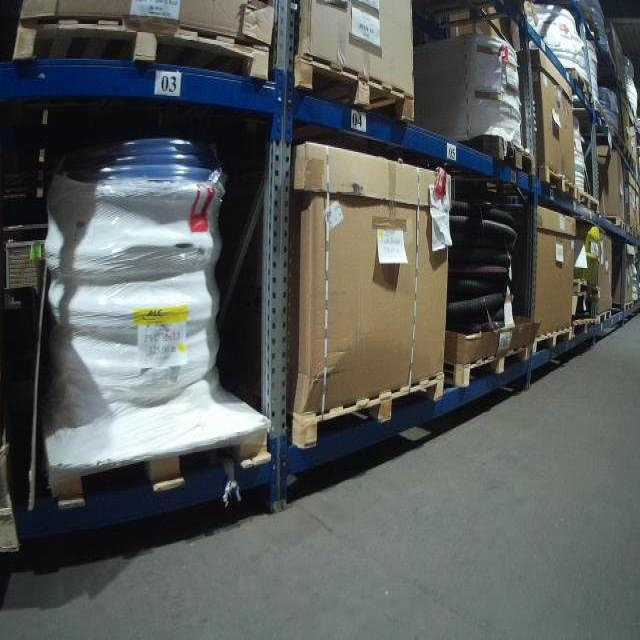pallet: (31, 421, 273, 509), (8, 17, 273, 86), (292, 371, 445, 450), (292, 51, 417, 126), (444, 341, 529, 388), (472, 137, 537, 178), (539, 164, 578, 201), (530, 326, 572, 357), (566, 69, 593, 103), (576, 189, 599, 215), (571, 318, 596, 340), (606, 216, 625, 231), (596, 308, 612, 324), (625, 300, 634, 310)
stillage: (7, 231, 52, 297)
